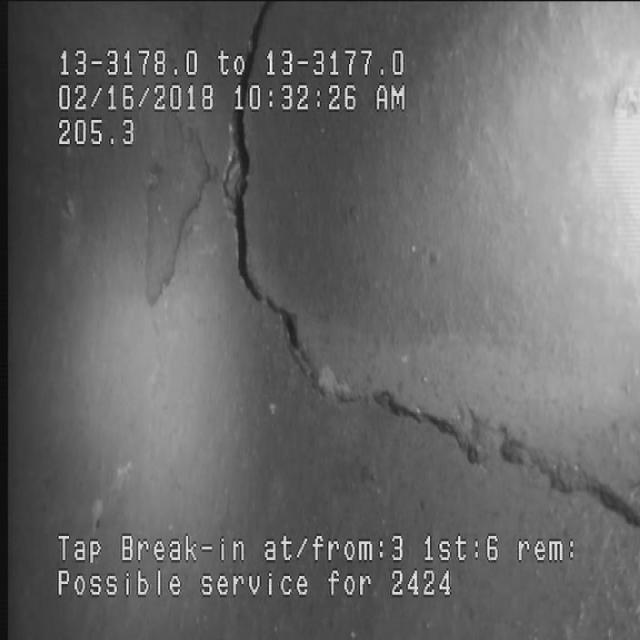Crack: (365, 348, 623, 518), (216, 120, 326, 418)
